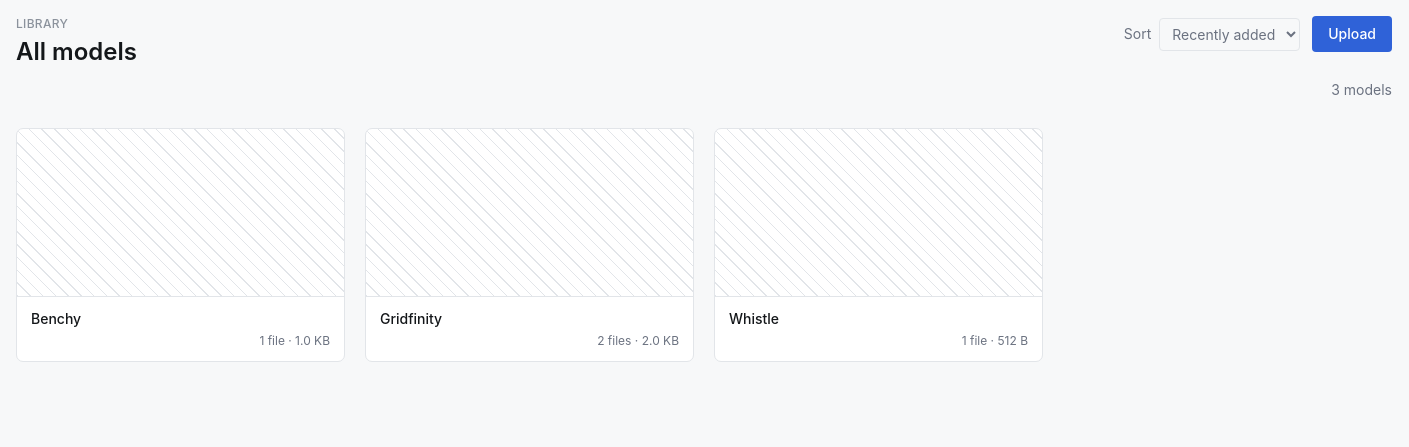
Test: library page bulk actions › extends a range with shift-click
Expected: the heading "Benchy" is shown, [31,310,81,327]
Click the link "Benchy 1 file · 1.0 KB" at [180, 245], box [16,128,345,362]
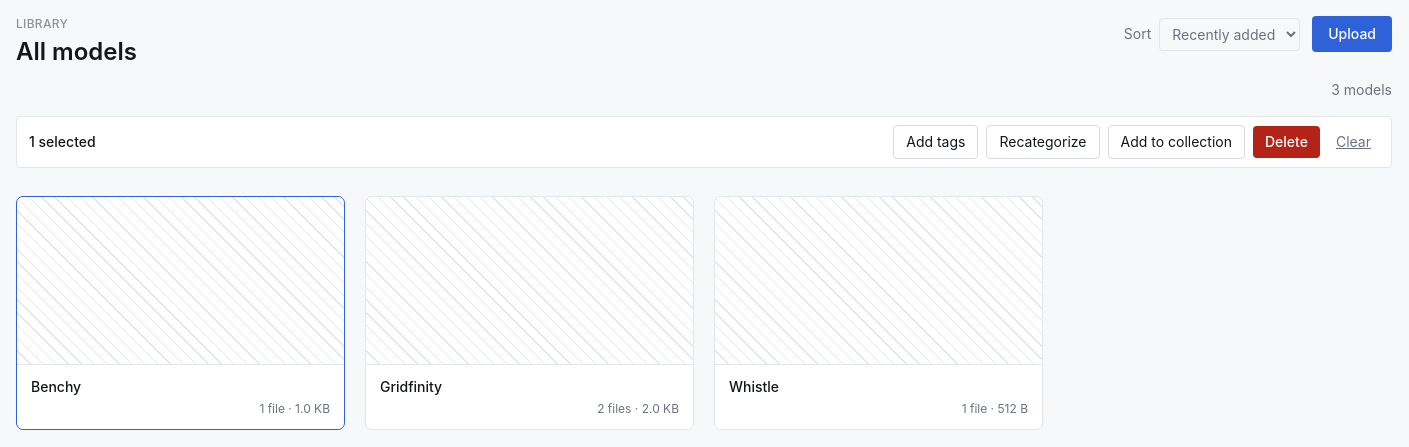
Click the link "Whistle 1 file · 512 B" at [878, 313], box [714,196,1043,430]
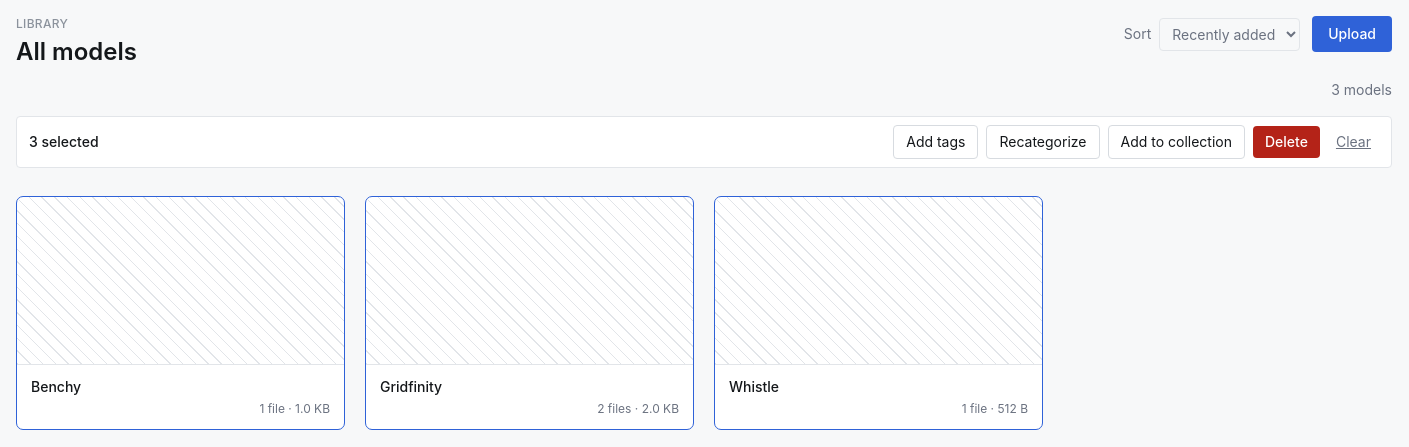
Result: the text "3 selected" is shown at [29,132,99,152]
